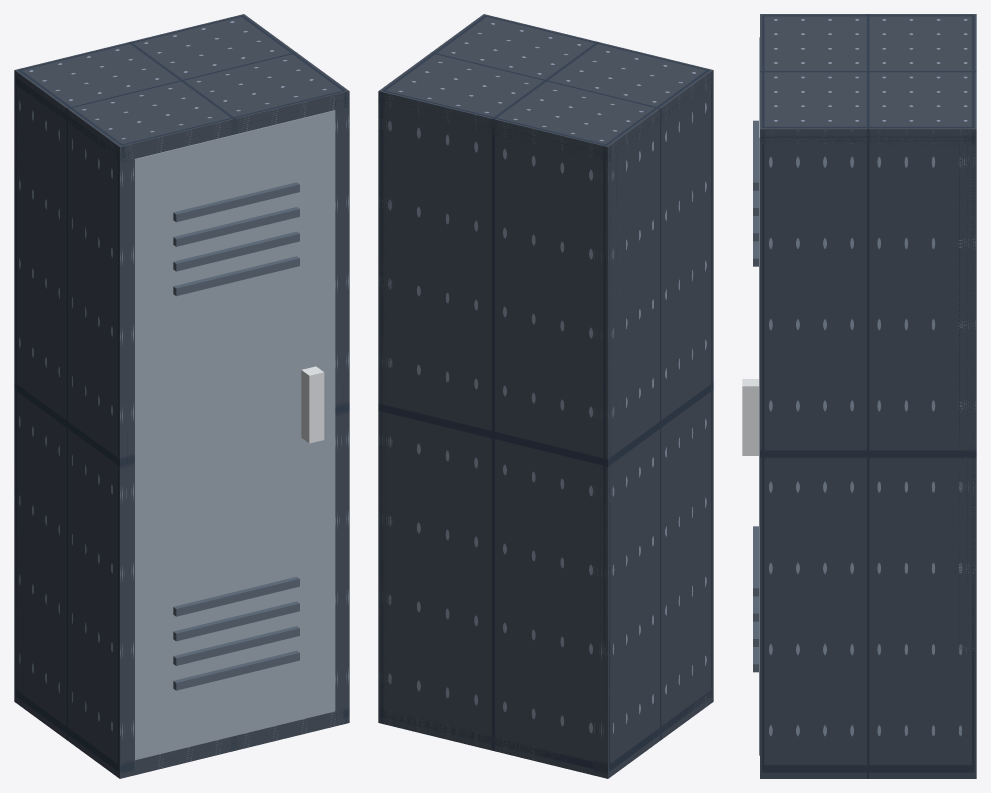
The model's file is cabinet_locker_metal.glb.
The picture shows the model from 3 angles, left to right: view 1: azimuth 30°, elevation 25°; view 2: azimuth 150°, elevation 25°; view 3: azimuth 270°, elevation 25°; orthographic projection. The views are drawn at different scales.
Parts seen in each view (by area): view 1: locker_door_pivot, cabinet_locker_metal; view 2: cabinet_locker_metal; view 3: cabinet_locker_metal, locker_door_pivot.
Boxes of the visible parts, left/top/right/bottom form: locker_door_pivot: left=134, top=110, right=335, bottom=760; cabinet_locker_metal: left=14, top=14, right=349, bottom=778; cabinet_locker_metal: left=378, top=14, right=713, bottom=778; cabinet_locker_metal: left=760, top=14, right=976, bottom=778; locker_door_pivot: left=742, top=37, right=759, bottom=755.
Size of the model in its own units: 0.78 by 2.05 by 0.67.
4 materials, 1 textured.
